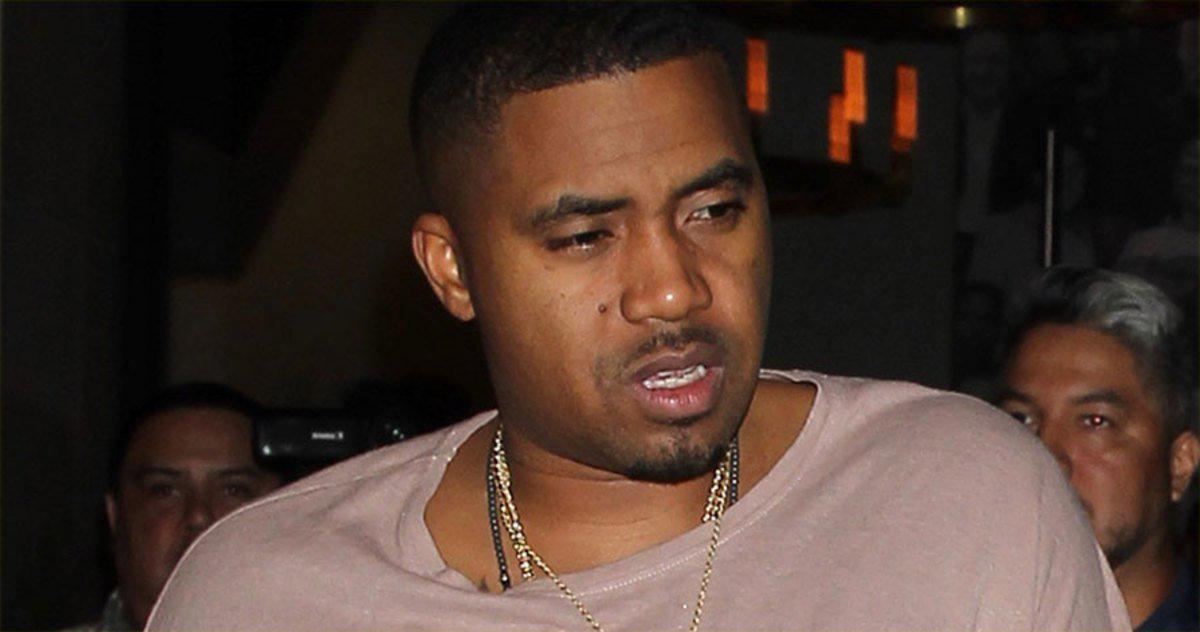Drunk: (511, 90, 766, 459)
